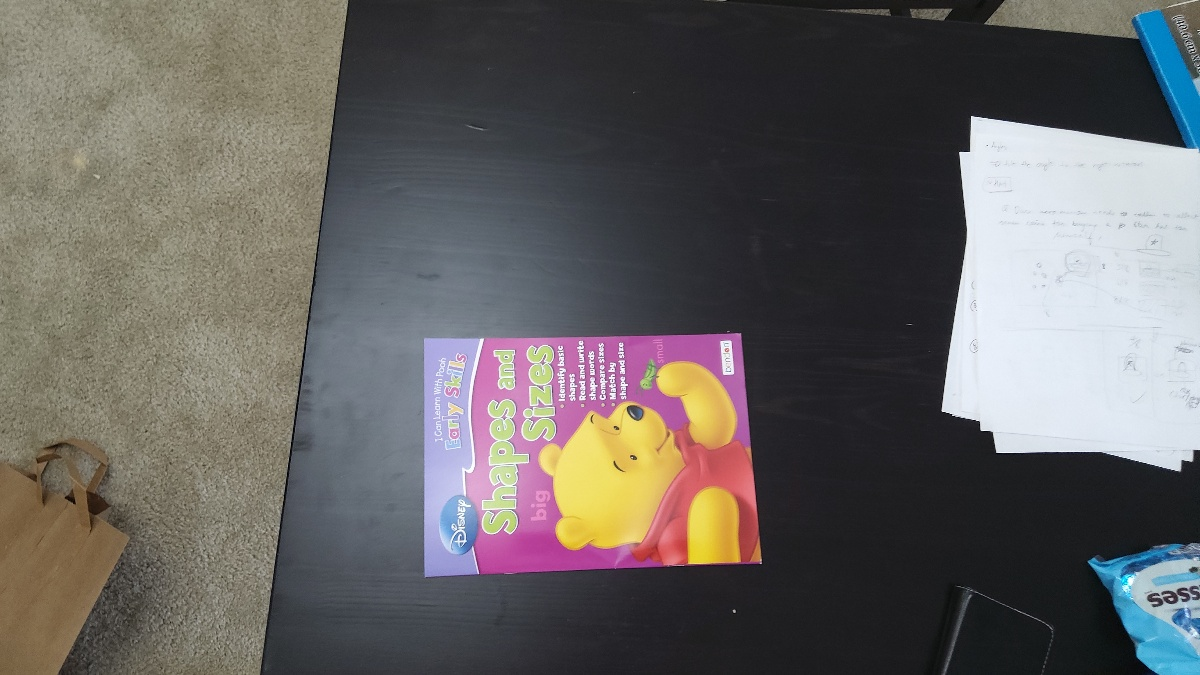book: (423, 337, 746, 570)
